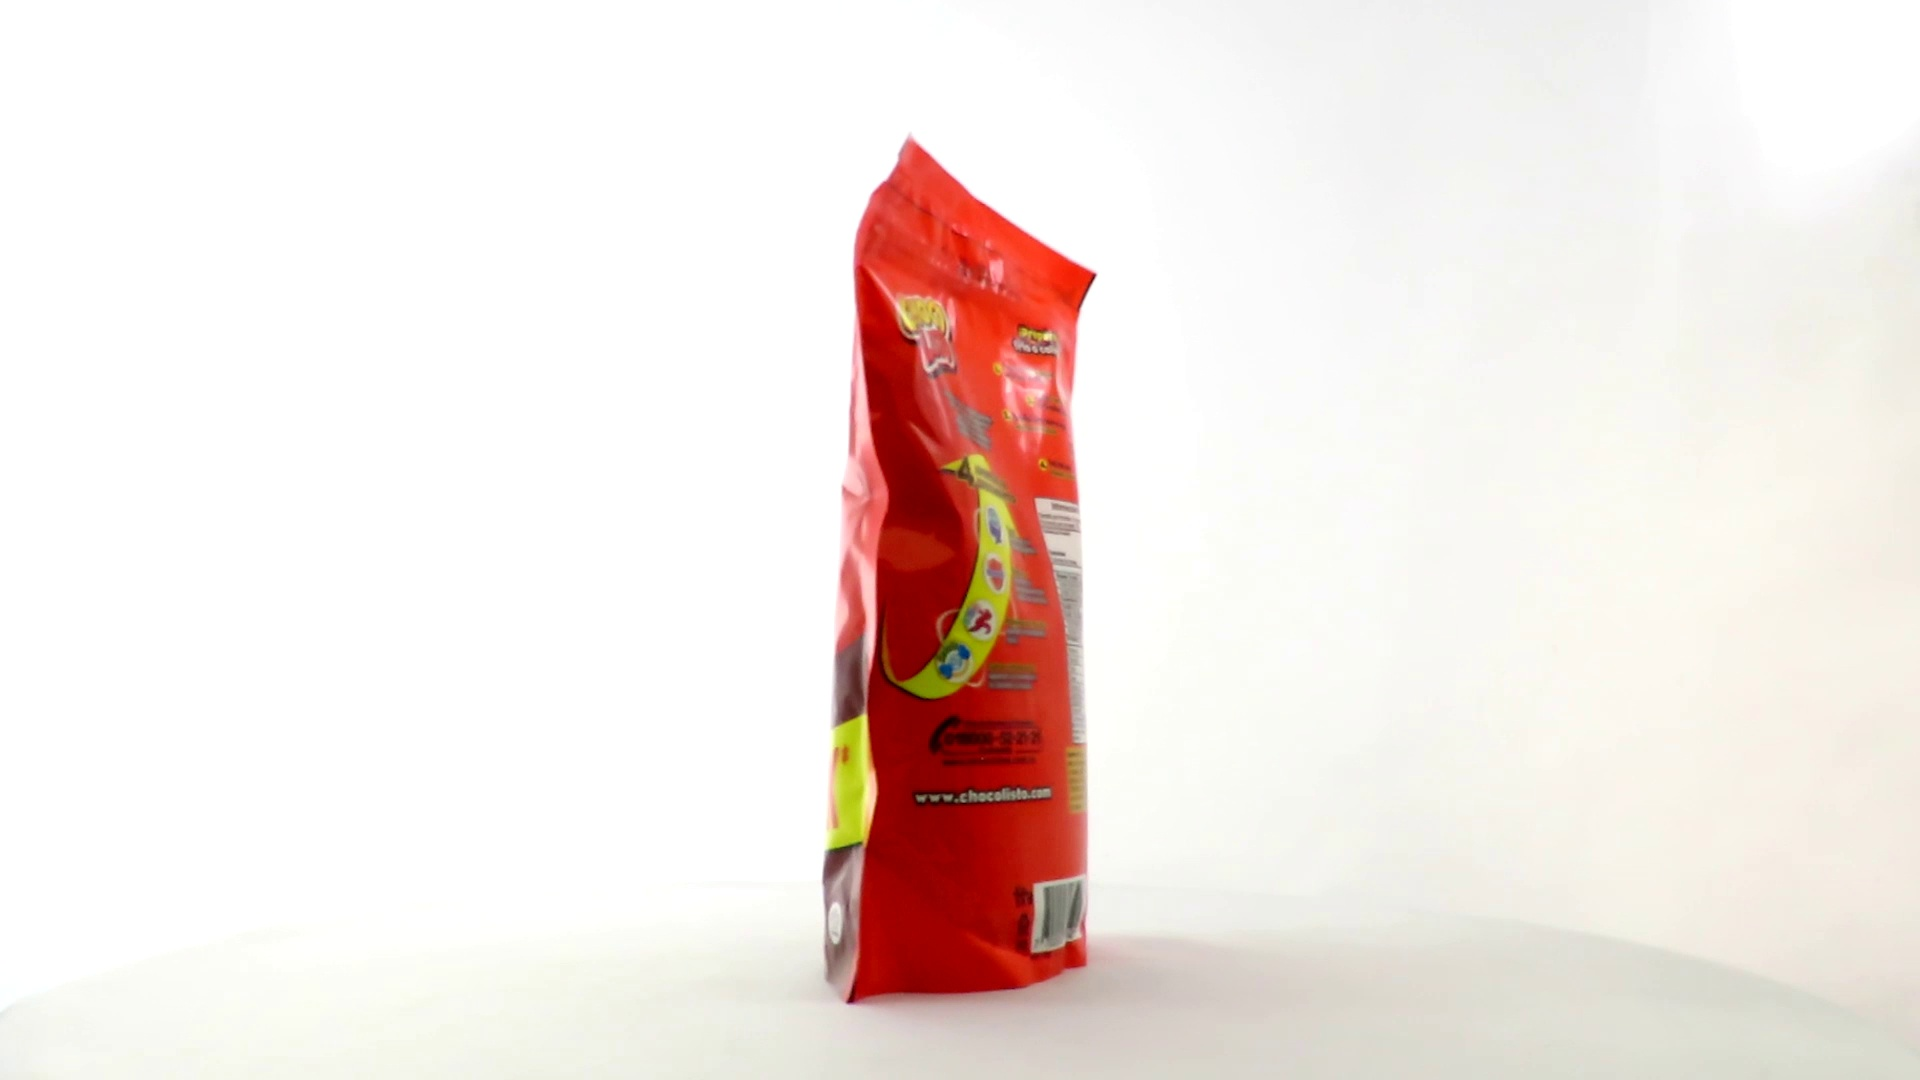COL0170103DYP36000: (818, 127, 1102, 1011)
